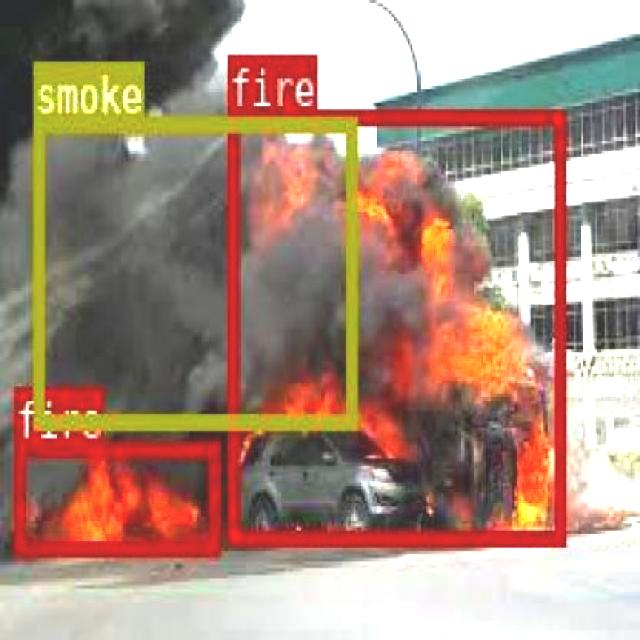fire: (226, 107, 563, 544), (15, 440, 216, 554)
smoke: (32, 115, 356, 428)
